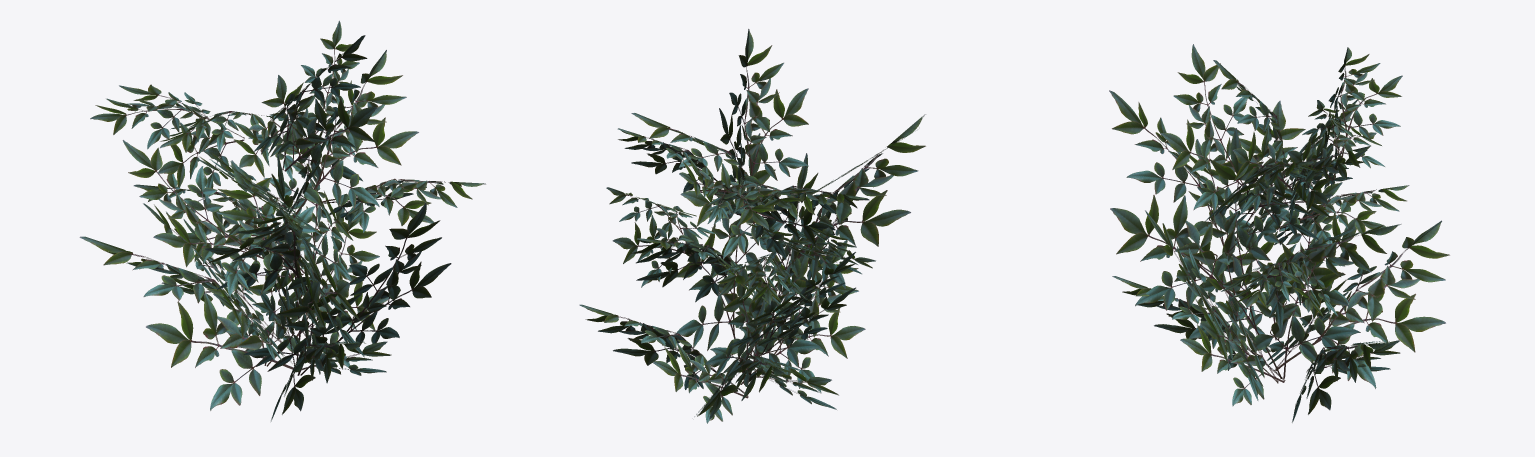
Rendered from plant004.fbx.
The picture shows the model from 3 angles, left to right: view 1: azimuth 30°, elevation 25°; view 2: azimuth 150°, elevation 25°; view 3: azimuth 270°, elevation 25°; orthographic projection. The views are drawn at different scales.
Visible parts, largest first — view 1: plant004; view 2: plant004; view 3: plant004.
Part boxes in pixels (x1,y1,x2,y2): plant004: [79, 20, 485, 421]; plant004: [579, 29, 925, 423]; plant004: [1109, 44, 1449, 422].
Size of the model in its own units: 148 by 143 by 166.
